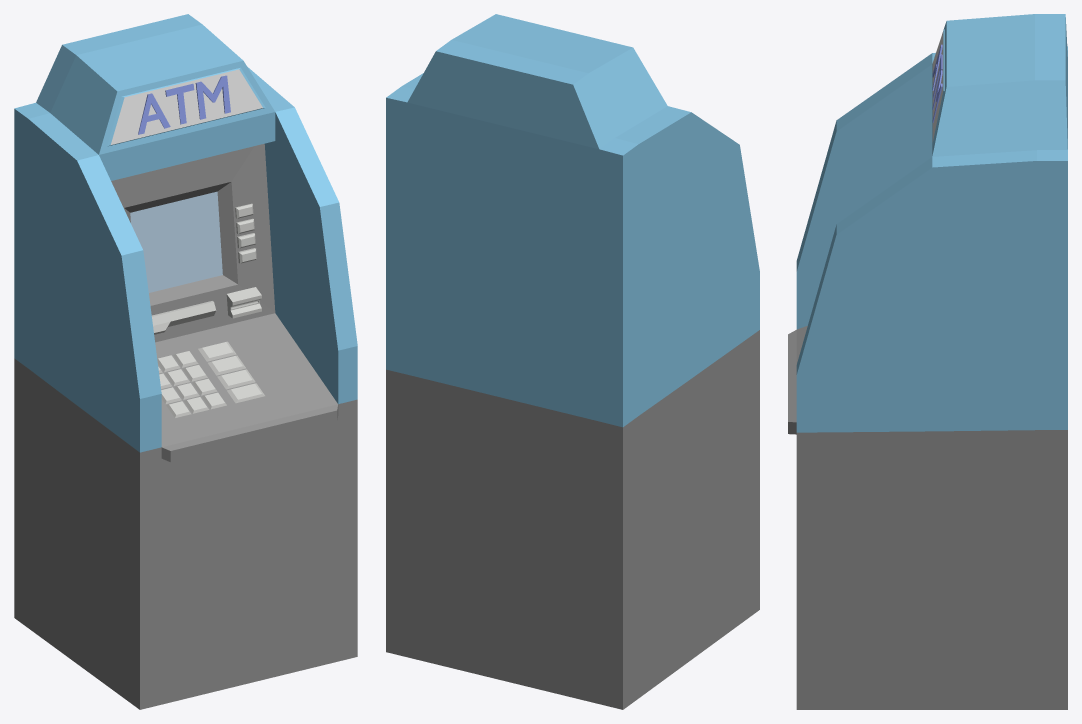
The model's file is atm.glb.
3 renders of one model, left to right at view 1: azimuth 30°, elevation 25°; view 2: azimuth 150°, elevation 25°; view 3: azimuth 270°, elevation 25°, orthographic. The views are drawn at different scales.
Visible parts, largest first — view 1: ATM; view 2: ATM; view 3: ATM.
Part boxes in pixels (box(x1,y1,x2,y2)): ATM: box(14, 14, 357, 709); ATM: box(386, 14, 759, 709); ATM: box(788, 14, 1067, 709).
Size of the model in its own units: 0.2217 by 0.5469 by 0.2288.
Materials: 1 (1 with a texture image).
